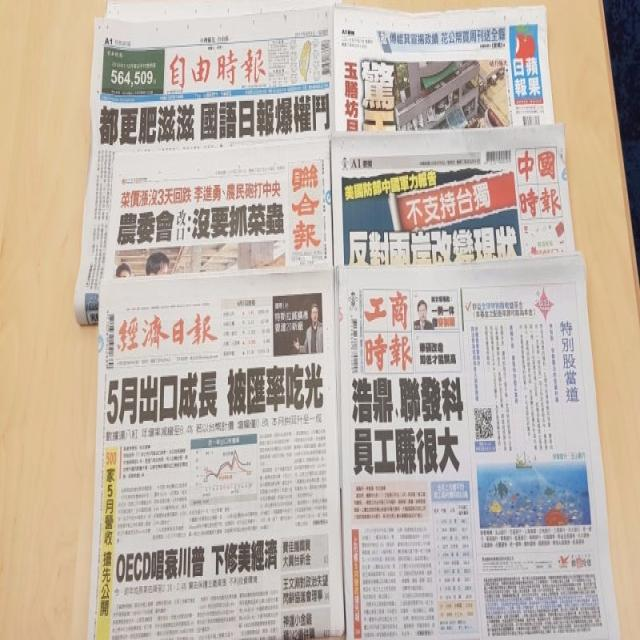newspaper: (336, 265, 620, 640), (90, 269, 340, 640), (74, 0, 332, 275), (332, 4, 574, 257)
